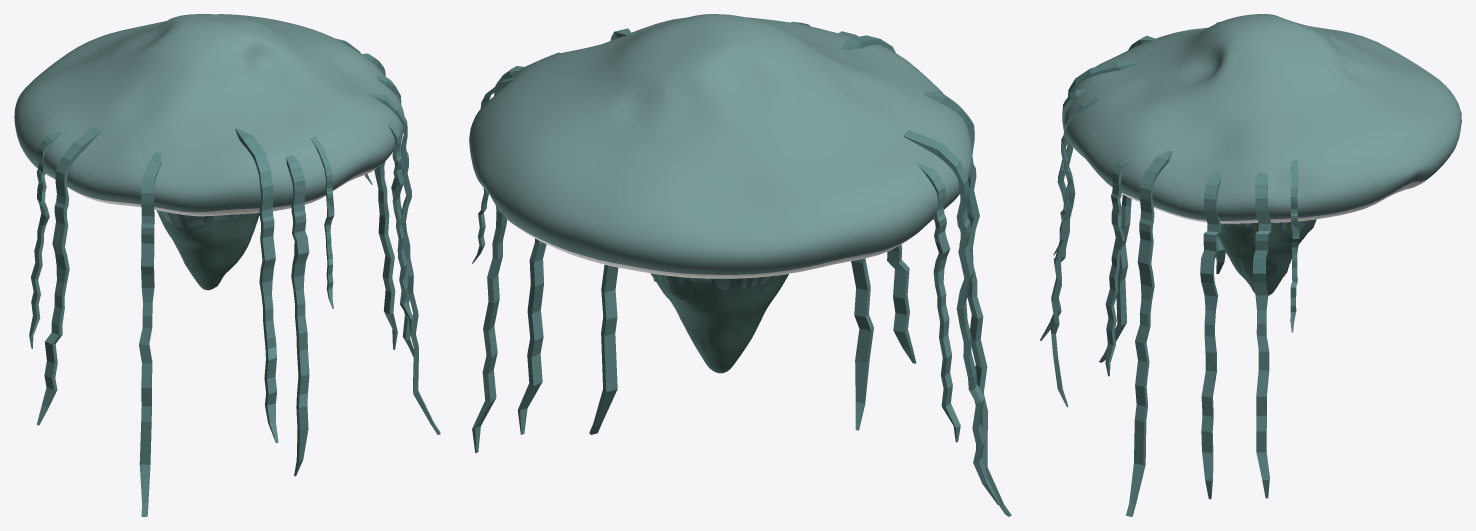
Rendered from Pilzlampe.fbx.
3 views of the same model, side by side, from view 1: azimuth 30°, elevation 25°; view 2: azimuth 150°, elevation 25°; view 3: azimuth 270°, elevation 25° (orthographic). The views are drawn at different scales.
Visible parts, largest first — view 1: Band.007; view 2: Band.007; view 3: Band.007.
Boxes of the visible parts, left/top/right/bottom form: Band.007: left=14, top=14, right=440, bottom=516; Band.007: left=469, top=14, right=1011, bottom=516; Band.007: left=1040, top=14, right=1461, bottom=516.
Bounding box in the file's own units: 128 × 128 × 119.
